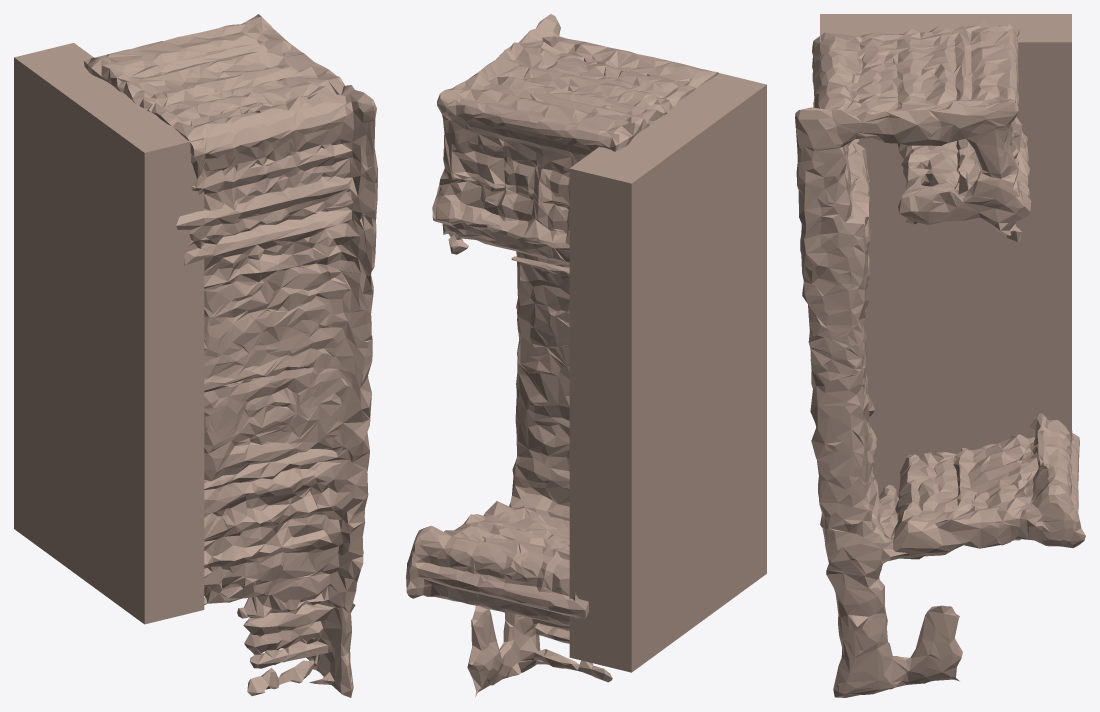
The model's file is improved.glb.
3 renders of one model, left to right at view 1: azimuth 30°, elevation 25°; view 2: azimuth 150°, elevation 25°; view 3: azimuth 270°, elevation 25°, orthographic. The views are drawn at different scales.
Parts seen in each view (by area): view 1: world; view 2: world; view 3: world.
Part boxes in pixels (x1,y1,x2,y2): world: (14, 14, 377, 697); world: (406, 14, 766, 696); world: (795, 14, 1085, 697).
Size of the model in its own units: 1.32 by 3.39 by 1.5.
